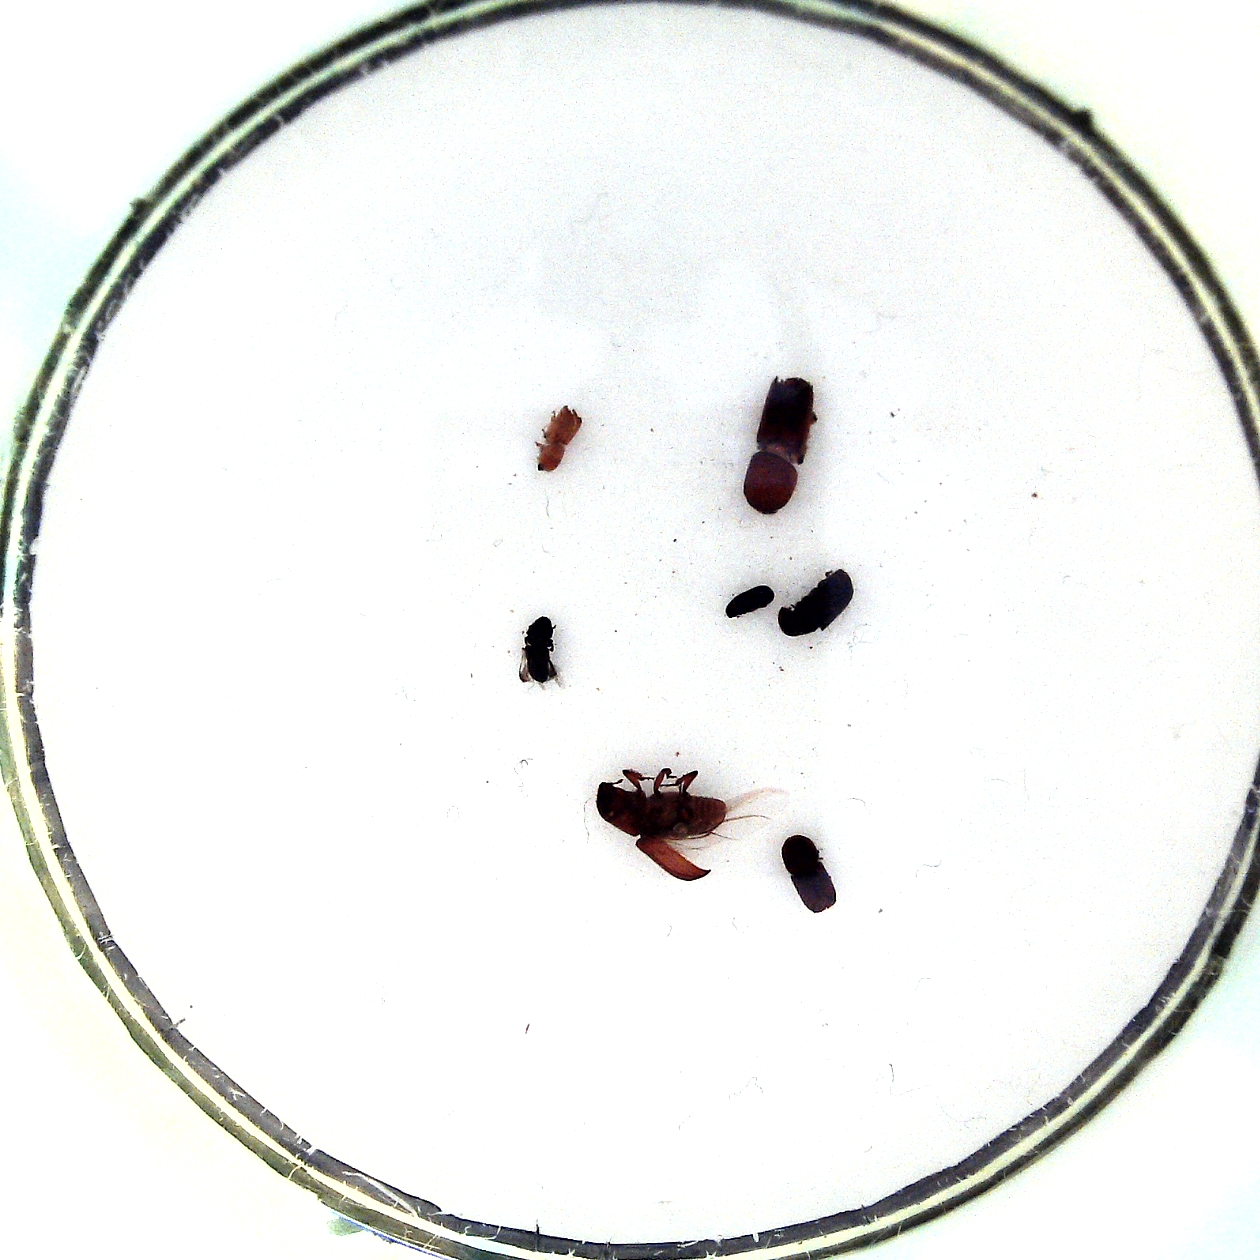Boerner: (734, 363, 822, 519)
Leconte: (590, 751, 790, 892)
Linnaeus: (777, 828, 843, 917)
acuminatus: (527, 402, 586, 483)
armandi: (773, 565, 855, 638)
coleoptera: (513, 609, 567, 696), (722, 582, 778, 620)
